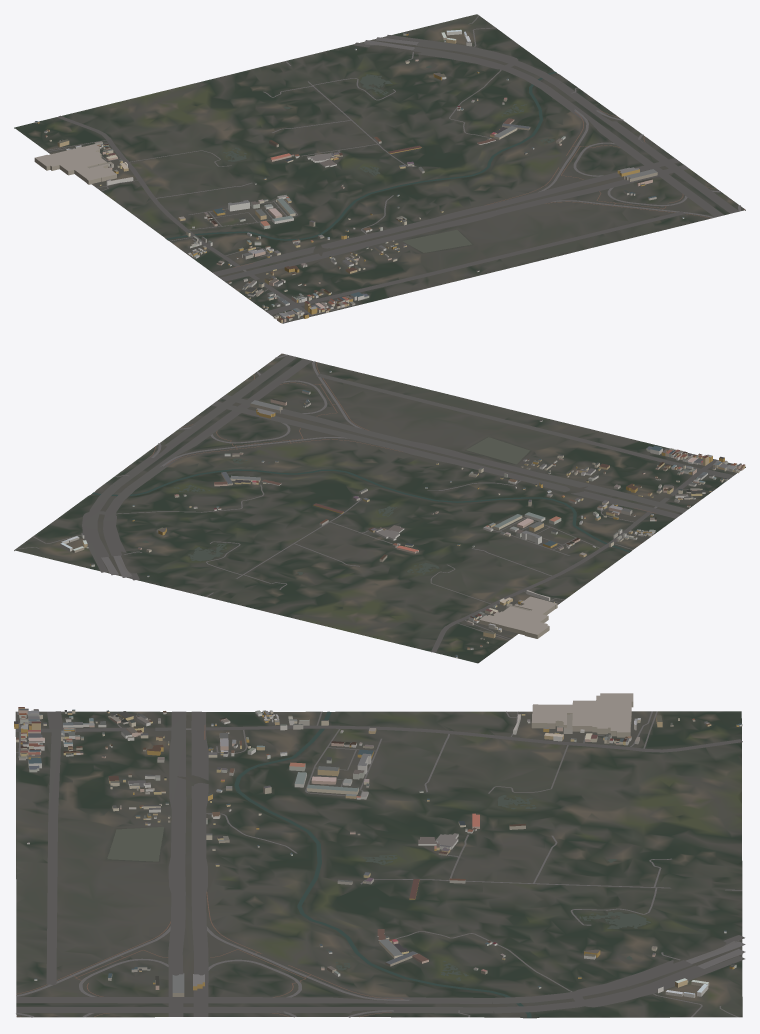
3 renders of one model, top to bottom at view 1: azimuth 30°, elevation 25°; view 2: azimuth 150°, elevation 25°; view 3: azimuth 270°, elevation 25°, orthographic. The views are drawn at different scales.
Parts seen in each view (by area): view 1: ground, roads, buildings, water; view 2: ground, roads, buildings, water; view 3: ground, roads, buildings, water.
Part boxes in pixels (bbox=[...]): ground: bbox=[14, 14, 745, 323]; roads: bbox=[45, 15, 744, 323]; buildings: bbox=[34, 29, 684, 323]; water: bbox=[166, 65, 556, 252]; ground: bbox=[14, 353, 745, 663]; roads: bbox=[16, 353, 733, 652]; buildings: bbox=[60, 371, 745, 658]; water: bbox=[92, 437, 630, 574]; ground: bbox=[15, 711, 742, 1018]; roads: bbox=[15, 711, 745, 1017]; buildings: bbox=[14, 693, 742, 997]; water: bbox=[107, 711, 650, 1017].
Size of the model in its own units: 1462 by 26.97 by 1413.
